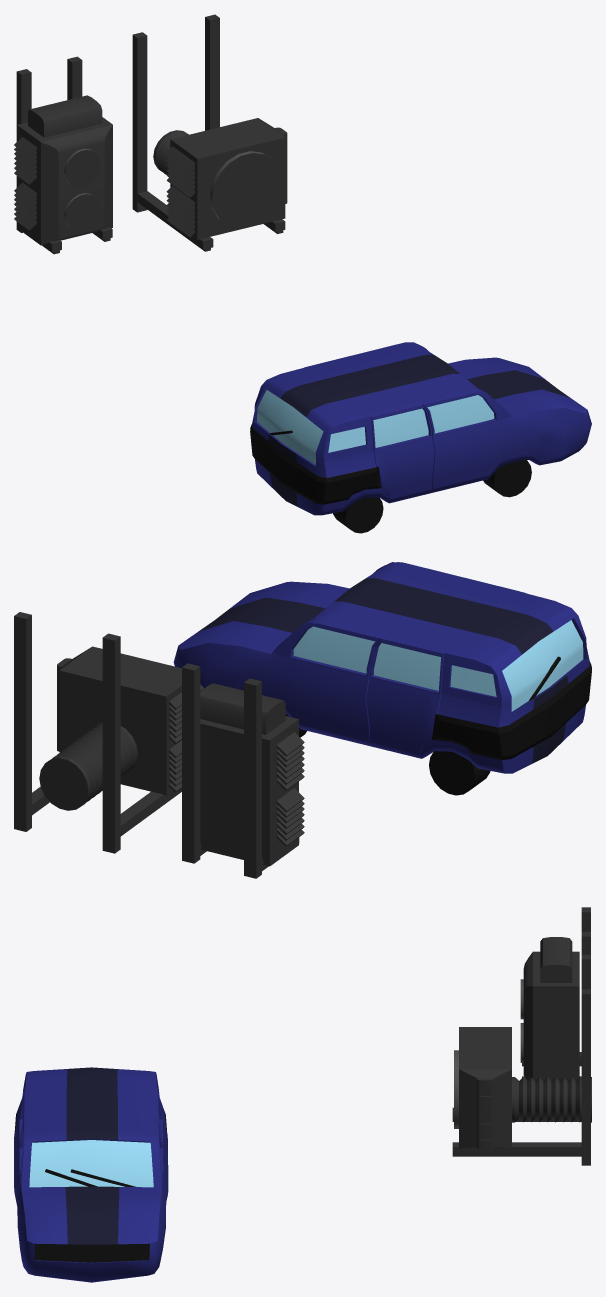
The model's file is Props_Modular_Update_1.FBX.
3 views of the same model, one above another, from view 1: azimuth 30°, elevation 25°; view 2: azimuth 150°, elevation 25°; view 3: azimuth 270°, elevation 25° (orthographic). The views are drawn at different scales.
Parts seen in each view (by area): view 1: Plane001, Box158, Box157; view 2: Plane001, Box158, Box157; view 3: Plane001, Box158, Box157.
Part boxes in pixels (x1,y1,x2,y2): Plane001: [250, 342, 591, 533]; Box158: [132, 14, 287, 251]; Box157: [14, 56, 112, 254]; Plane001: [173, 562, 591, 795]; Box158: [14, 612, 203, 853]; Box157: [182, 663, 304, 878]; Plane001: [14, 1067, 168, 1282]; Box158: [452, 954, 591, 1165]; Box157: [520, 907, 590, 1080].
Size of the model in its own units: 389 by 334 by 647.
